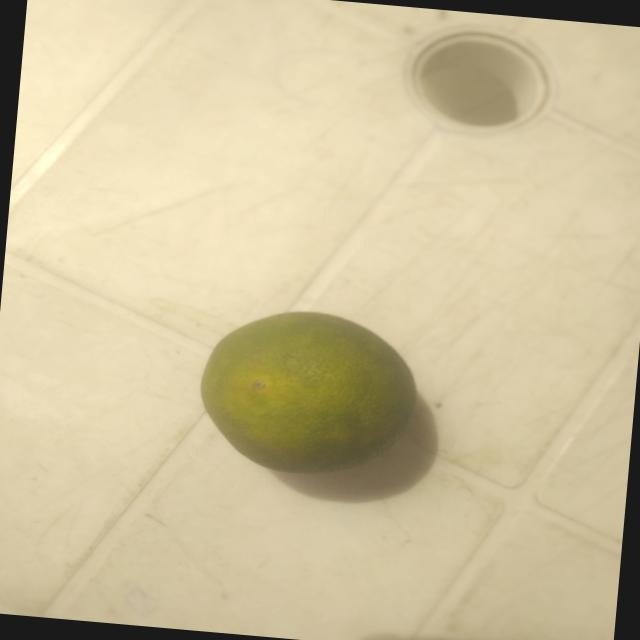agrume: (186, 295, 427, 485)
